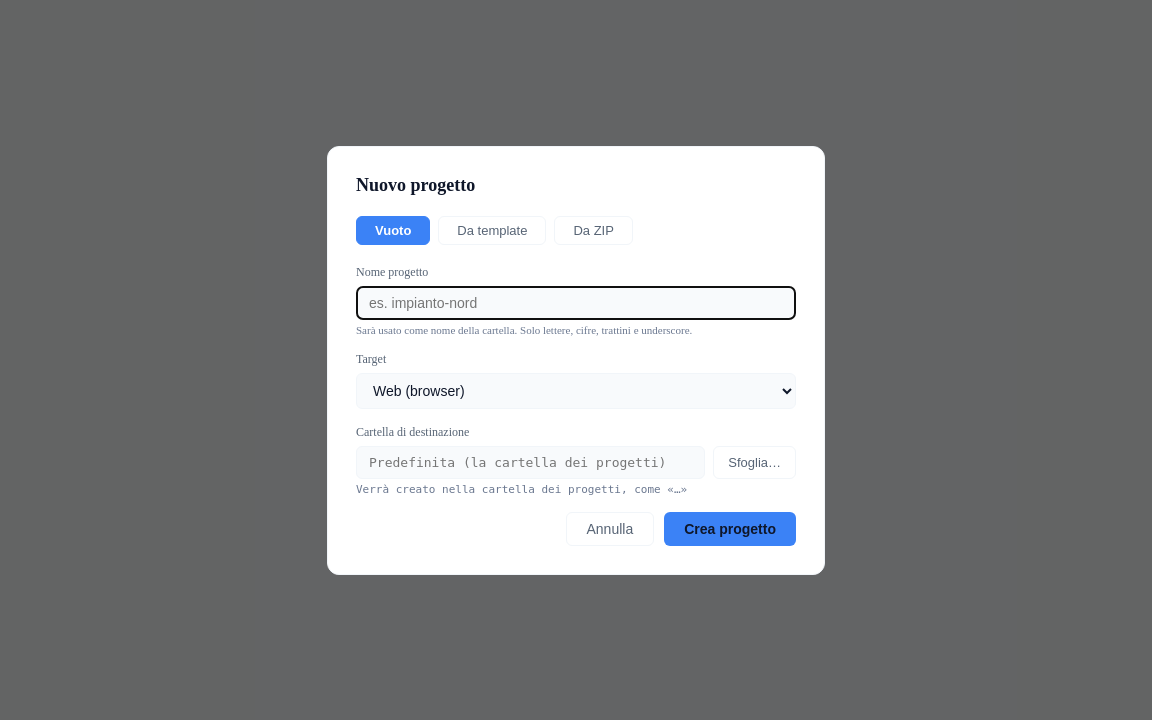
Test case: dove nasce il progetto › senza cartella non si inventa un percorso
In the field with placeholder "es. impianto-nord": (576, 302) [356,286,796,320], type "impianto"
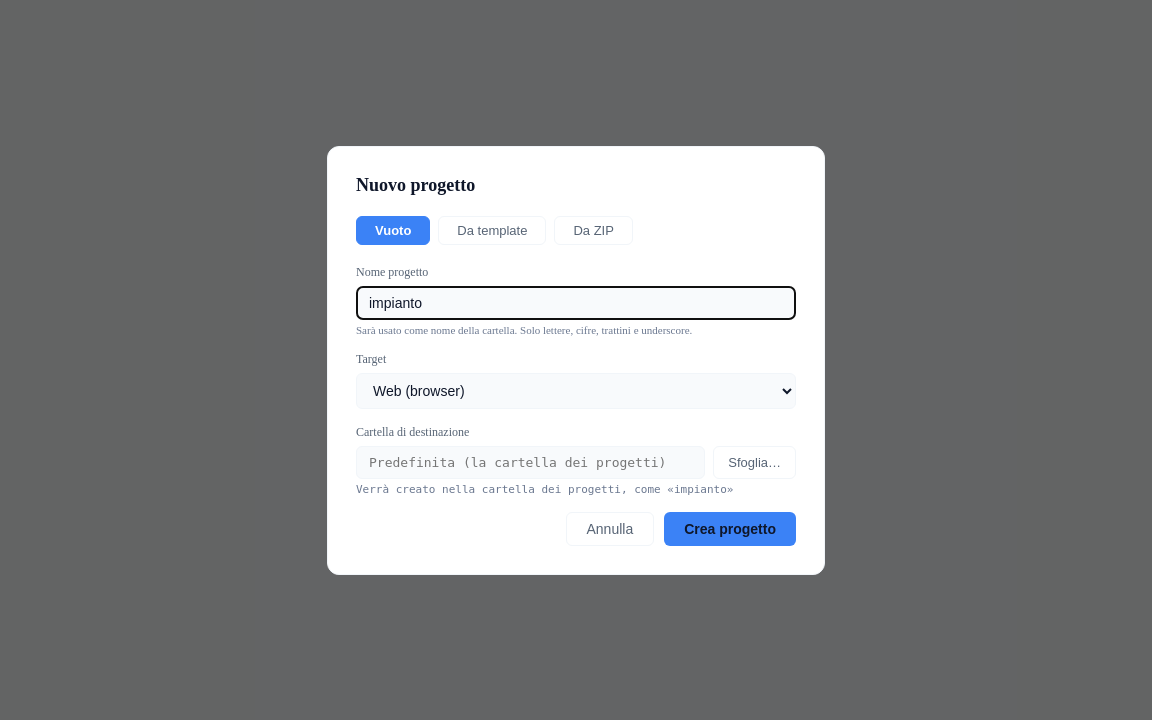
Check: the text "Verrà creato nella cartella dei progetti, come «impianto»" is shown, box [356,482,796,496]
